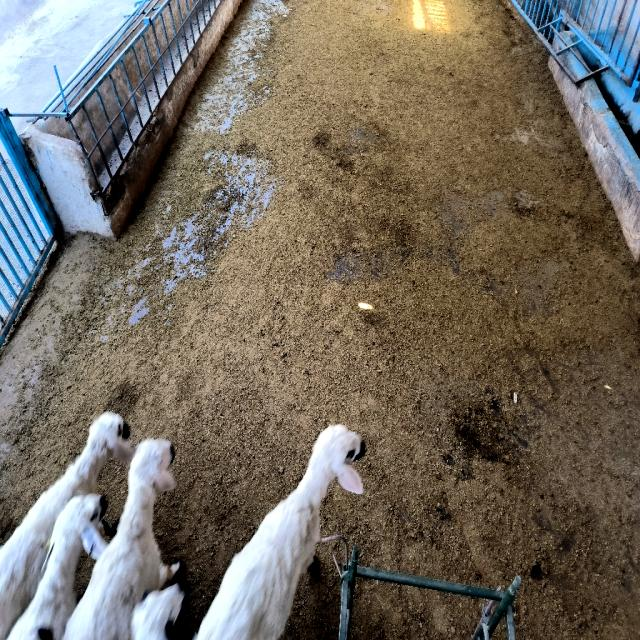sheep: (196, 425, 362, 638), (0, 412, 134, 638), (64, 438, 179, 638), (8, 493, 108, 640), (131, 583, 185, 640)
